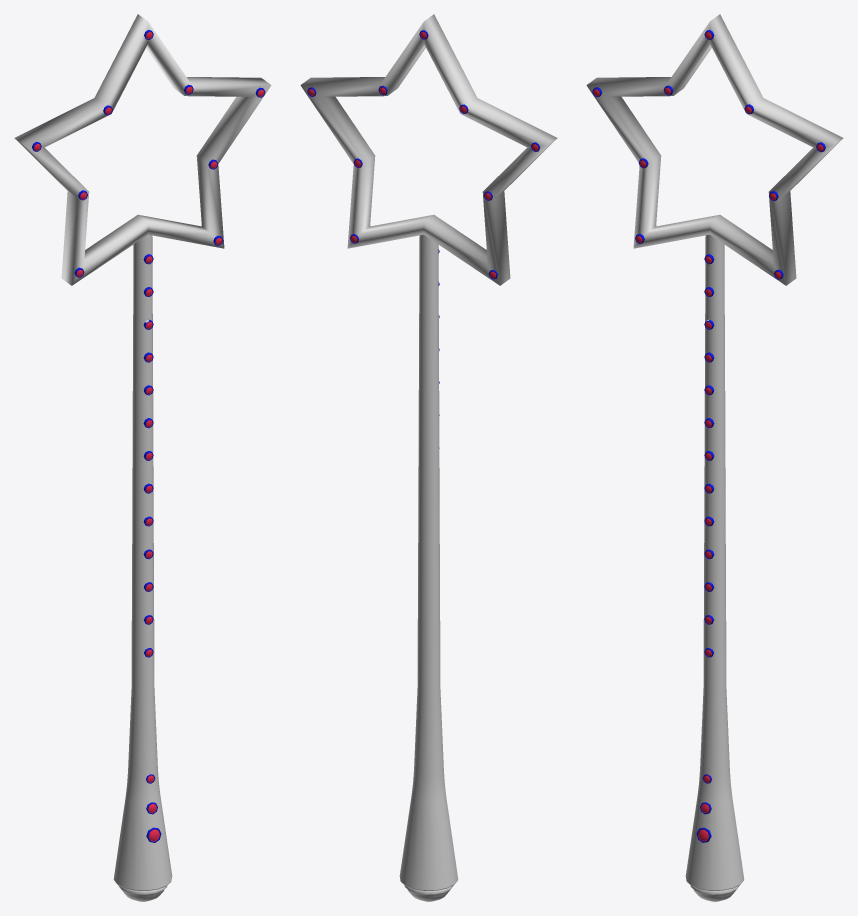
Rendered from SM_Harmless_Knife.fbx.
3 views of the same model, side by side, from view 1: azimuth 30°, elevation 25°; view 2: azimuth 150°, elevation 25°; view 3: azimuth 330°, elevation 25° (orthographic).
Parts seen in each view (by area): view 1: Wand; view 2: Wand; view 3: Wand.
Boxes of the visible parts, x1,y1,x2,y2 form: Wand: (14,14,271,901); Wand: (300,14,557,901); Wand: (586,14,843,901).
Size of what is drawn, in the model's own units: 55.54 by 189 by 11.5.
